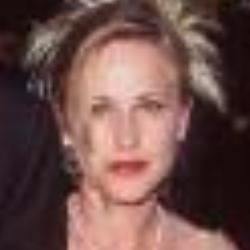face: (14, 4, 232, 207)
